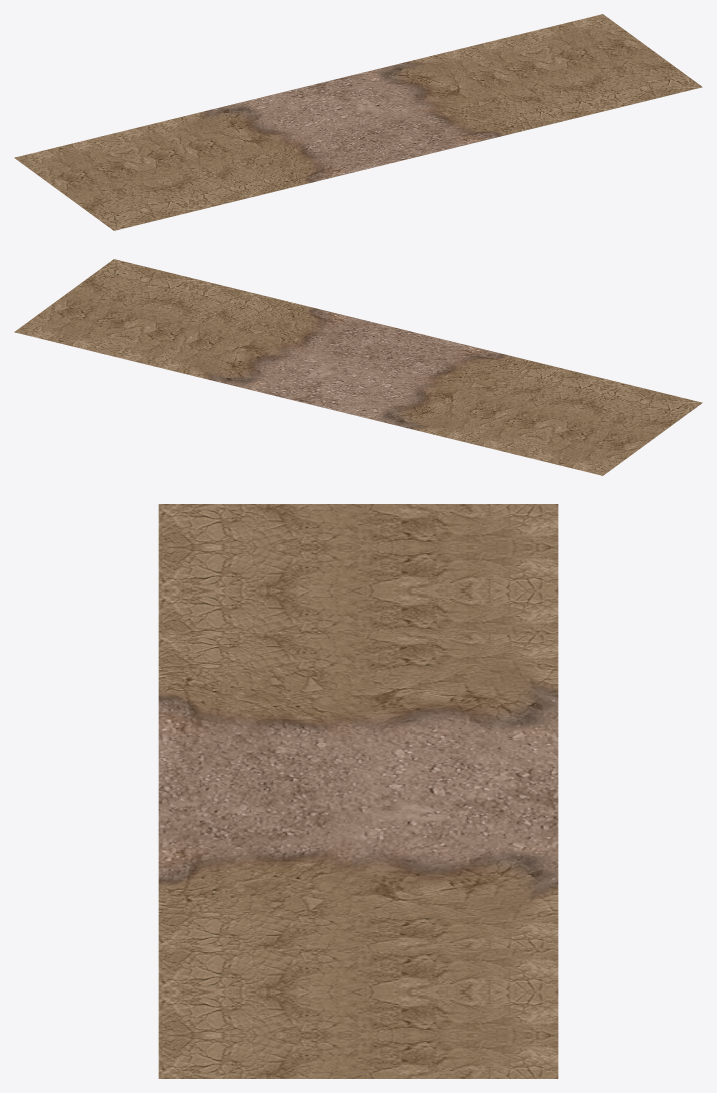
File: FH_Env_Dibiao_02.FBX
3 renders of one model, top to bottom at view 1: azimuth 30°, elevation 25°; view 2: azimuth 150°, elevation 25°; view 3: azimuth 270°, elevation 25°, orthographic. The views are drawn at different scales.
Visible parts, largest first — view 1: Plane38; view 2: Plane38; view 3: Plane38.
Boxes of the visible parts, x1,y1,x2,y2 form: Plane38: (14,14,702,230); Plane38: (14,259,702,475); Plane38: (158,504,558,1078).
Size of the model in its own units: 34.01 by 5.5e-05 by 10.
